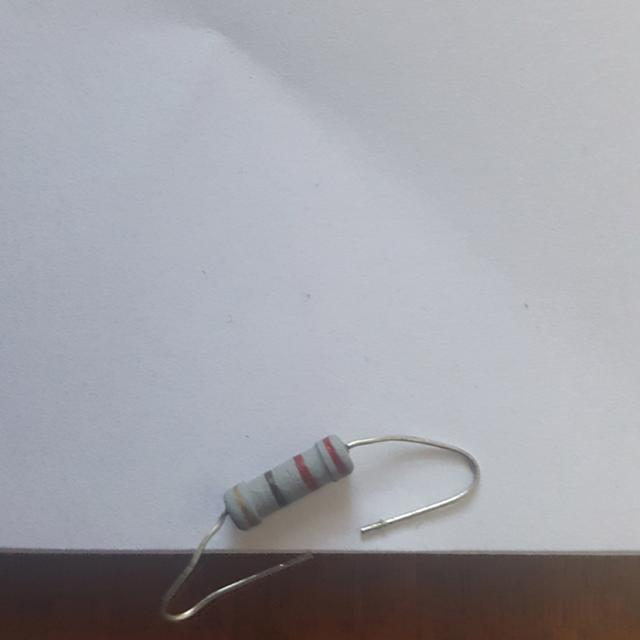brown: (264, 470, 289, 507)
gold: (232, 485, 261, 526)
red: (293, 453, 319, 491), (322, 438, 347, 476)
resistor: (197, 410, 372, 555)
